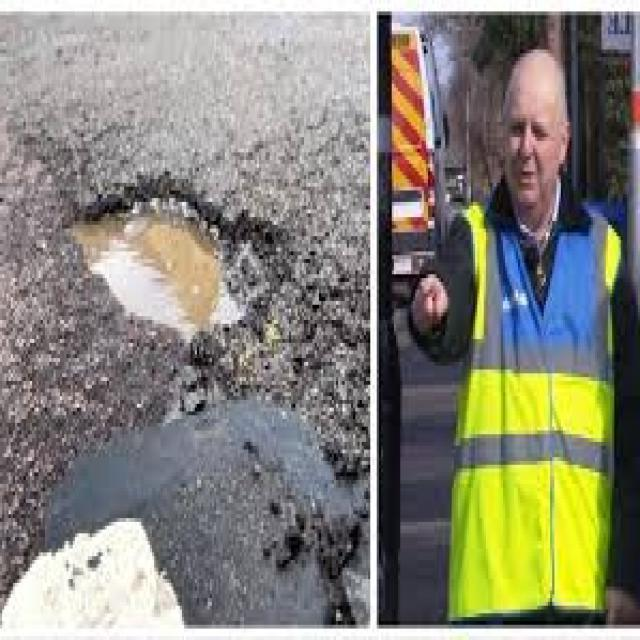Pothole: (45, 167, 297, 354)
